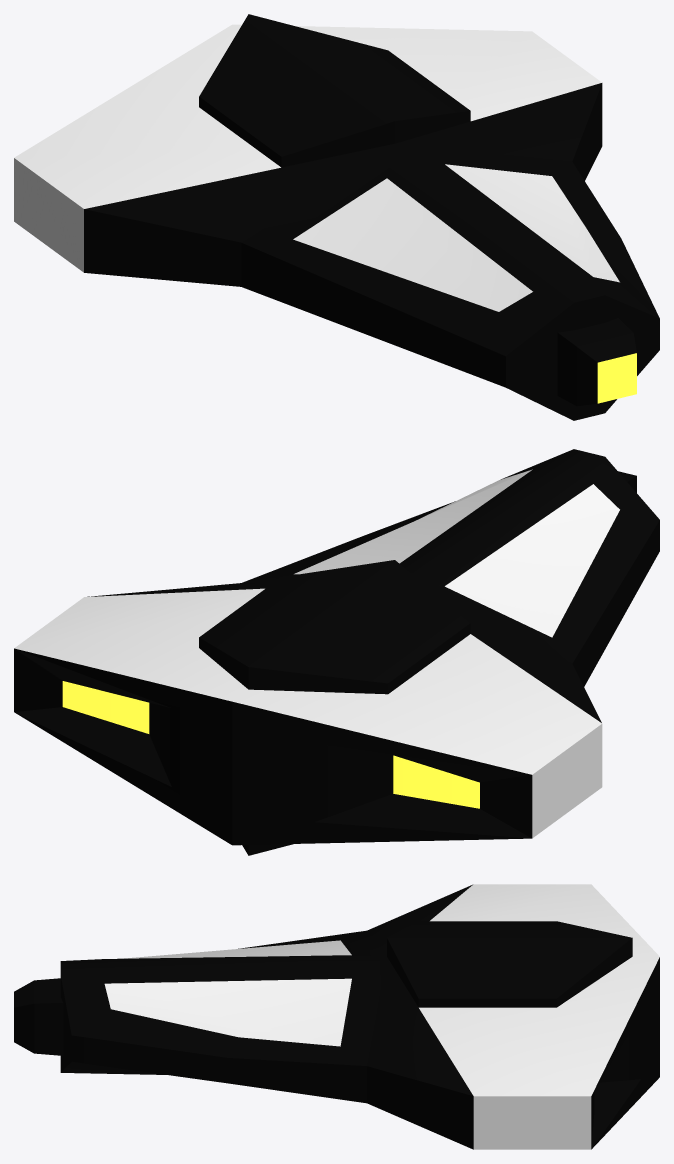
File: 01_ship_drone_jipper.glb
The picture shows the model from 3 angles, top to bottom: view 1: azimuth 30°, elevation 25°; view 2: azimuth 150°, elevation 25°; view 3: azimuth 270°, elevation 25°; orthographic projection. The views are drawn at different scales.
Parts seen in each view (by area): view 1: 01_ship_drone_jipper; view 2: 01_ship_drone_jipper; view 3: 01_ship_drone_jipper.
Boxes of the visible parts, x1,y1,x2,y2 form: 01_ship_drone_jipper: (14,14,659,420); 01_ship_drone_jipper: (14,449,659,855); 01_ship_drone_jipper: (14,884,659,1149).
Bounding box in the file's own units: 0.7769 × 0.2705 × 1.
